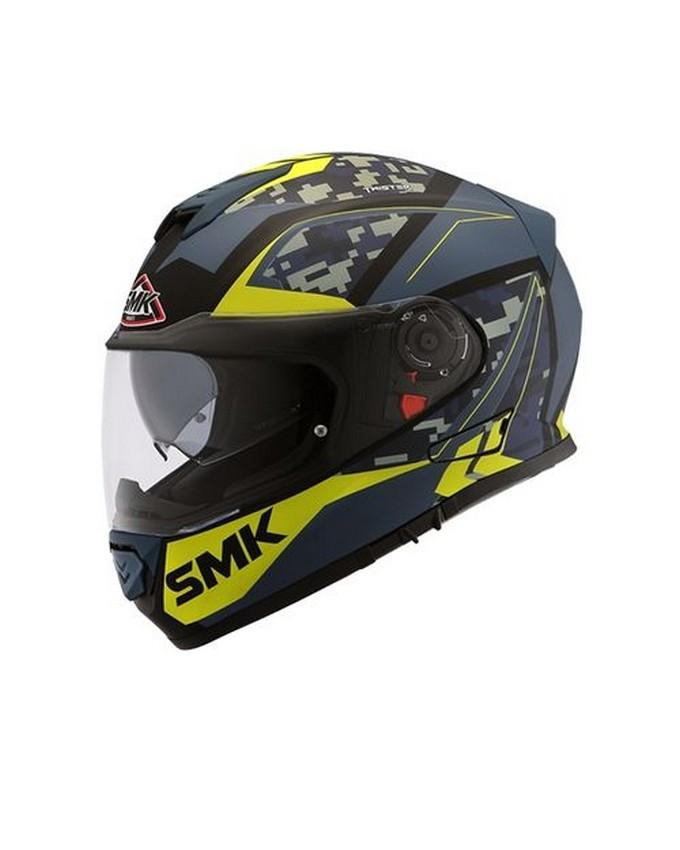with_helmet: (86, 137, 605, 661)
